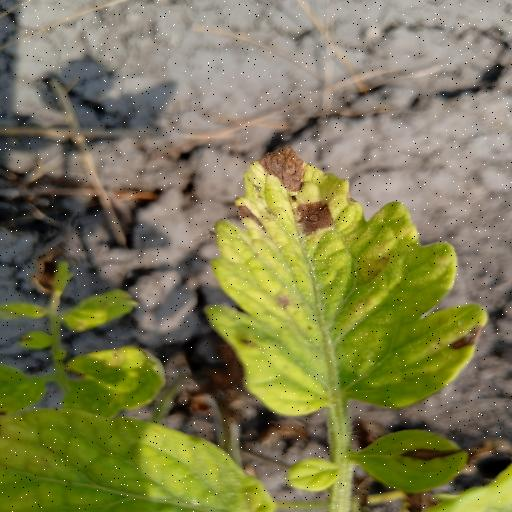Tomato_Brown_Spots: (198, 143, 493, 419), (0, 402, 282, 512)
